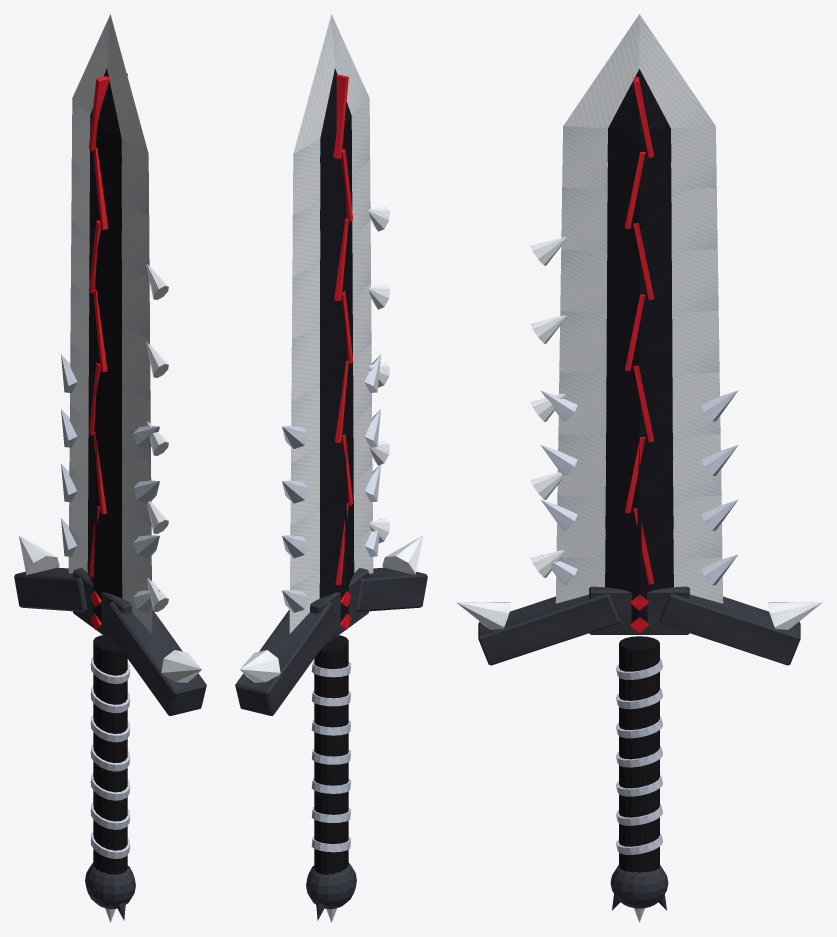
File: AbyssWings.fbx
The picture shows the model from 3 angles, left to right: view 1: azimuth 30°, elevation 25°; view 2: azimuth 150°, elevation 25°; view 3: azimuth 270°, elevation 25°; orthographic projection.
Parts seen in each view (by area): view 1: AbyssWings; view 2: AbyssWings; view 3: AbyssWings.
Boxes of the visible parts, left/top/right/bottom form: AbyssWings: left=14, top=14, right=206, bottom=922; AbyssWings: left=235, top=14, right=427, bottom=922; AbyssWings: left=456, top=14, right=822, bottom=922.
Bounding box in the file's own units: 44.01 × 932 × 341.
Materials: 1 (1 with a texture image).
